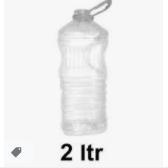bottle: (58, 0, 115, 137)
